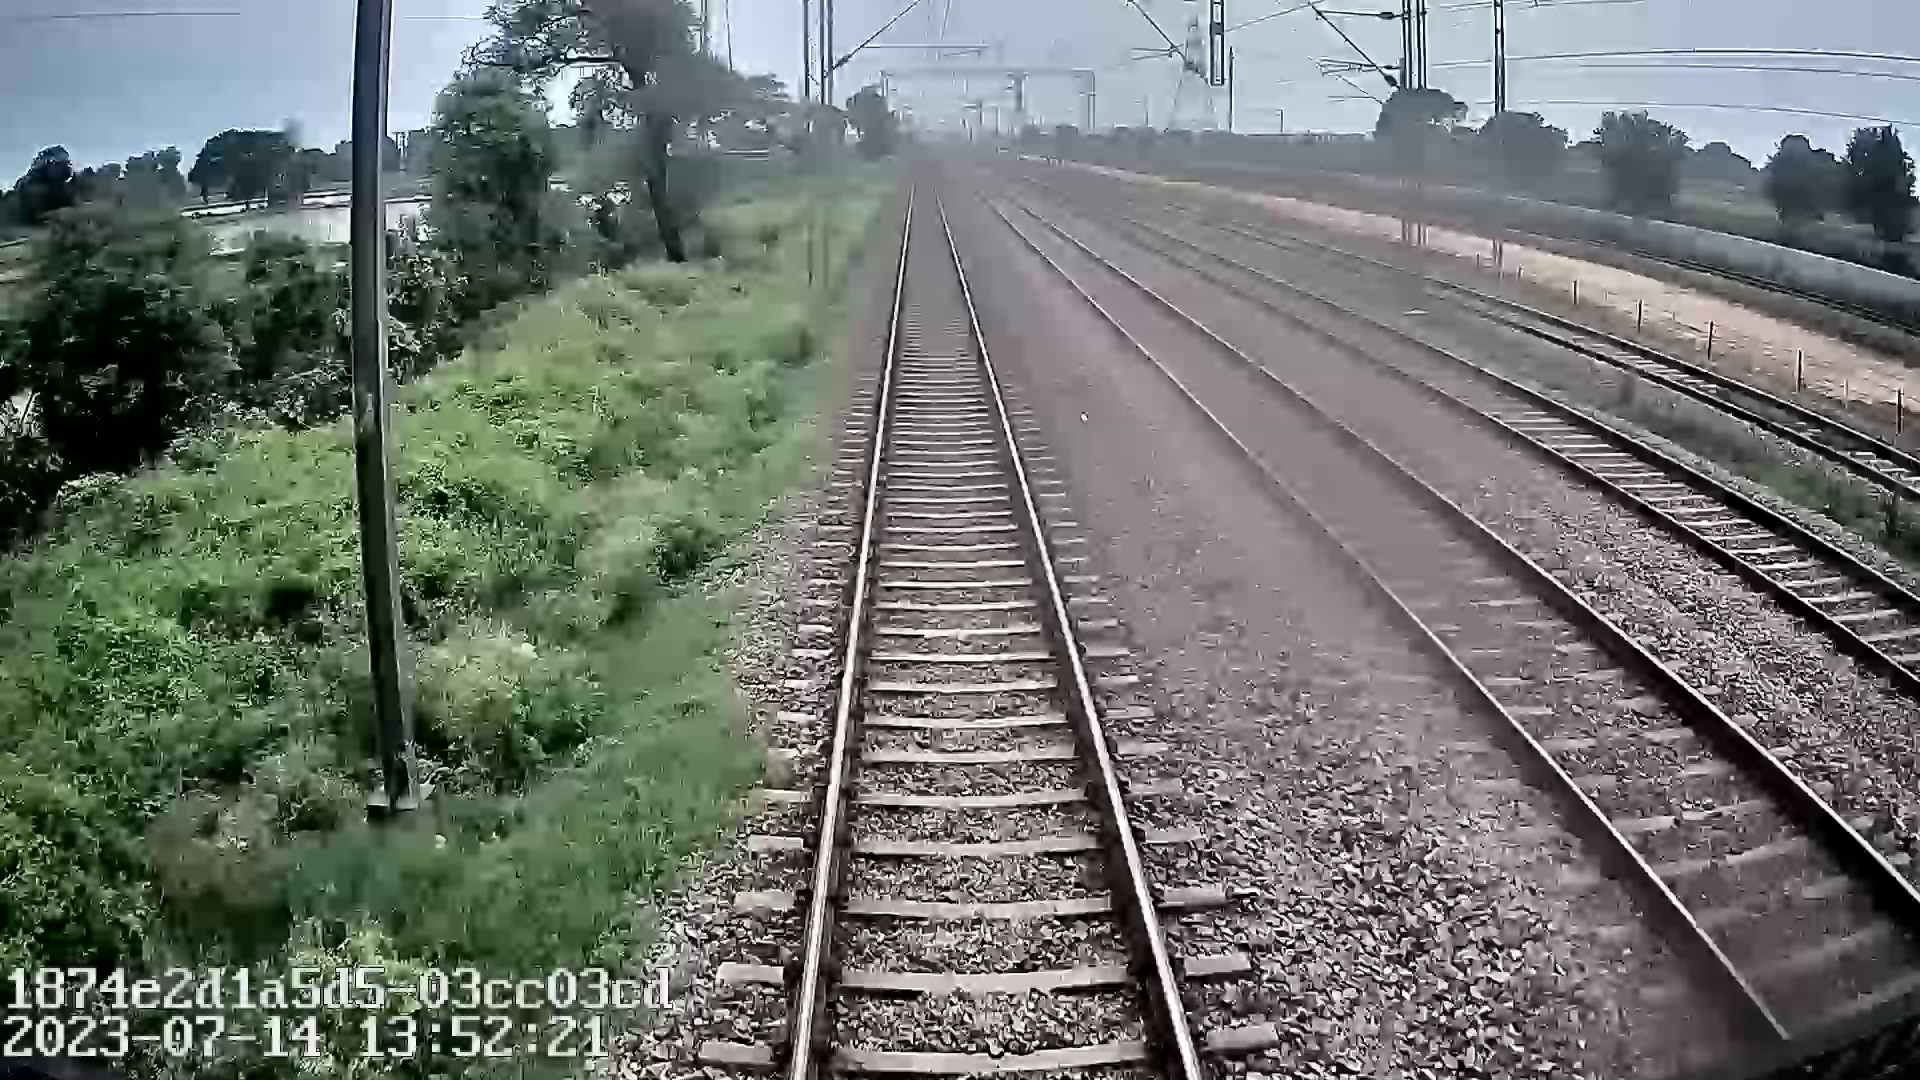track1: (798, 194, 1189, 1071)
track2: (991, 201, 1914, 999)
track3: (1144, 237, 1919, 669)
track4: (1436, 286, 1913, 484)
